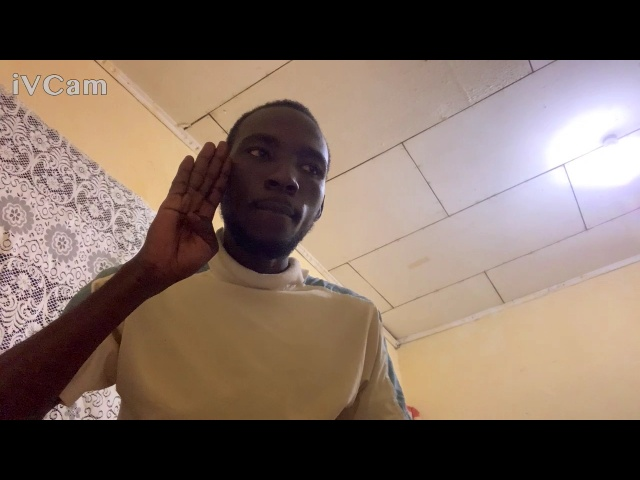s'il te plait: (136, 133, 239, 292)
